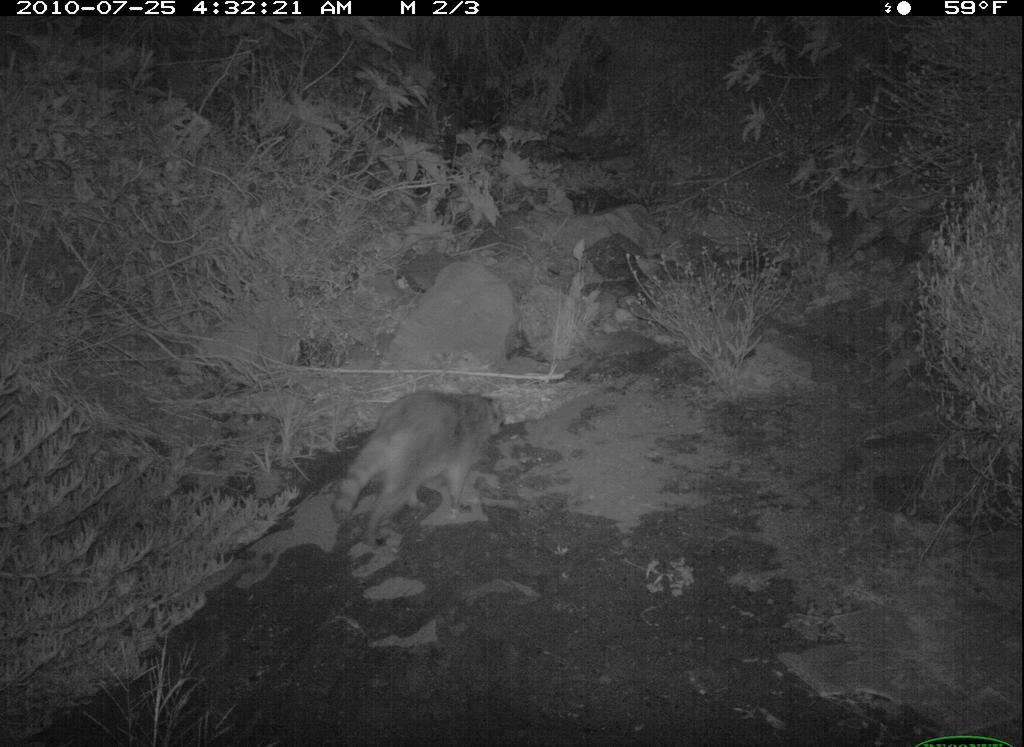raccoon: (332, 385, 519, 562)
